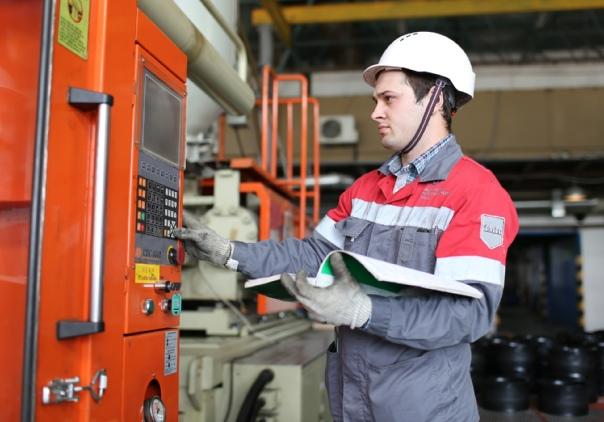person: (173, 32, 519, 421)
